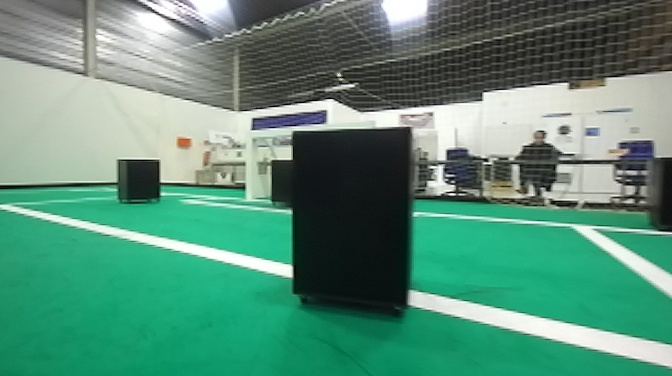goalpost: (240, 135, 257, 202)
